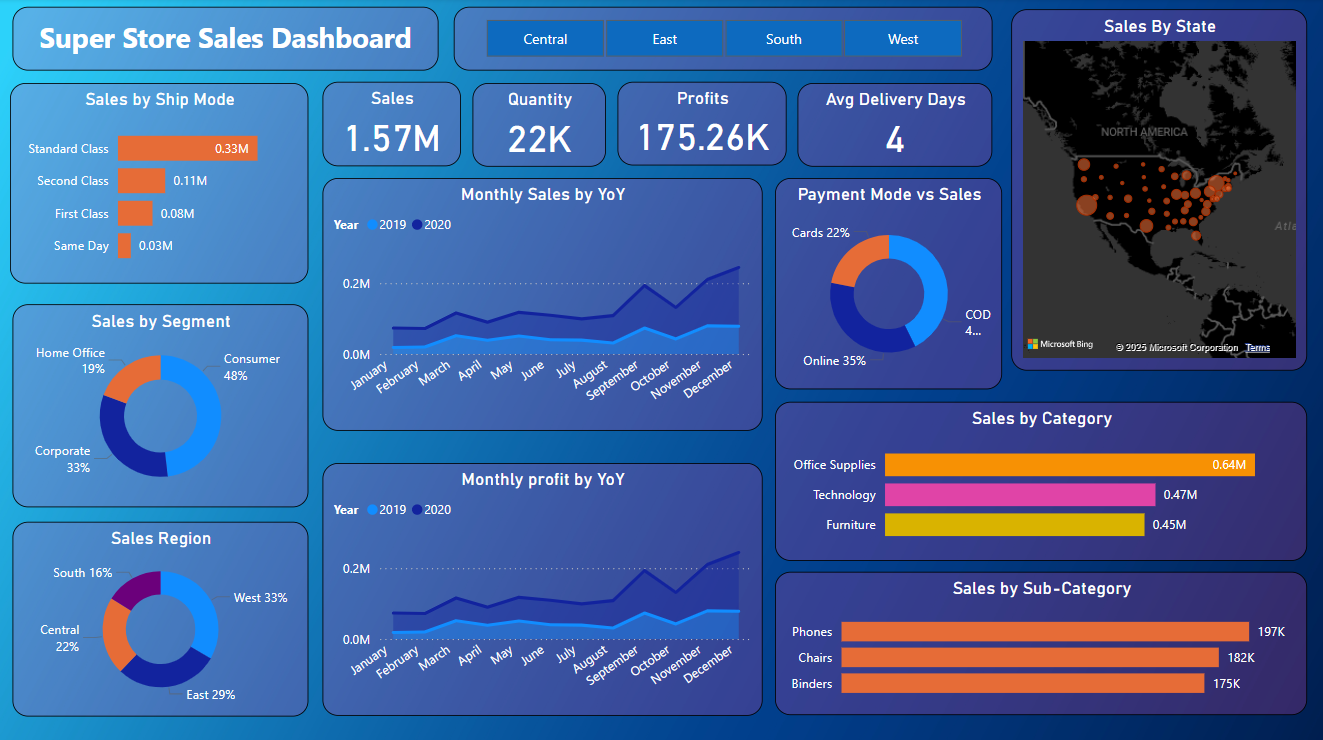

This screenshot's page, from the dashboard's own definition file:
{"tool":"powerbi","page":{"name":"Dashboard","canvas":[1280,720],"ordinal":0},"visuals":[{"type":"clusteredBarChart","title":"Sales by Category","fields":{"Category":["SuperStore_Sales_Dataset.Category"],"Y":["Sum(SuperStore_Sales_Dataset.Sales)"]},"box":[748,389.7,513.9,153.2],"z":0},{"type":"clusteredBarChart","title":"Sales by Sub-Category","fields":{"Category":["SuperStore_Sales_Dataset.Sub-Category"],"Y":["Sum(SuperStore_Sales_Dataset.Sales)"]},"box":[748,553.8,513.9,138.7],"z":1000},{"type":"clusteredBarChart","title":"Sales by Ship Mode","fields":{"Category":["SuperStore_Sales_Dataset.Ship Mode"],"Y":["Sum(SuperStore_Sales_Dataset.Sales)"]},"box":[9.6,82.3,288.2,193.5],"z":2000},{"type":"stackedAreaChart","title":"Monthly Sales by YoY","fields":{"Y":["Sum(SuperStore_Sales_Dataset.Sales)"],"Category":["SuperStore_Sales_Dataset.Order Date.Variation.Date Hierarchy.Month"],"Series":["SuperStore_Sales_Dataset.Order Date.Variation.Date Hierarchy.Year"]},"box":[311.3,173.7,424.7,243.7],"z":3000},{"type":"stackedAreaChart","title":"Monthly profit by YoY","fields":{"Y":["Sum(SuperStore_Sales_Dataset.Sales)"],"Category":["SuperStore_Sales_Dataset.Order Date.Variation.Date Hierarchy.Month"],"Series":["SuperStore_Sales_Dataset.Order Date.Variation.Date Hierarchy.Year"]},"box":[311.3,448.8,424.7,243.7],"z":4000},{"type":"map","title":"Sales By State","fields":{"Category":["SuperStore_Sales_Dataset.State"],"Size":["Sum(SuperStore_Sales_Dataset.Sales)"]},"box":[976,10.9,285.9,348.7],"z":5000},{"type":"donutChart","title":"Sales by Segment","fields":{"Category":["SuperStore_Sales_Dataset.Segment"],"Y":["Sum(SuperStore_Sales_Dataset.Sales)"]},"box":[12.3,295,285.4,196.2],"z":6000},{"type":"donutChart","title":"Payment Mode vs Sales","fields":{"Y":["Sum(SuperStore_Sales_Dataset.Sales)"],"Category":["SuperStore_Sales_Dataset.Payment Mode"]},"box":[748,173.7,219.6,203.9],"z":7000},{"type":"slicer","fields":{"Values":["SuperStore_Sales_Dataset.Region"]},"box":[437.9,8.4,520,61.5],"z":8000},{"type":"textbox","box":[12.1,8.4,411.4,61.5],"z":9000},{"type":"card","title":"Sales","fields":{"Values":["Sum(SuperStore_Sales_Dataset.Sales)"]},"box":[311.3,80.7,133.3,81.3],"z":10000},{"type":"card","title":"Quantity","fields":{"Values":["Sum(SuperStore_Sales_Dataset.Quantity)"]},"box":[455.6,82.3,129,81],"z":11000},{"type":"card","title":"Profits","fields":{"Values":["Sum(SuperStore_Sales_Dataset.Profit)"]},"box":[595.5,81,163.3,81],"z":12000},{"type":"card","title":"Avg Delivery Days","fields":{"Values":["Avg(SuperStore_Sales_Dataset.Avg_Delivery)"]},"box":[769.8,82.3,188,81],"z":13000},{"type":"donutChart","title":"Sales Region","fields":{"Category":["SuperStore_Sales_Dataset.Region"],"Y":["Sum(SuperStore_Sales_Dataset.Sales)"]},"box":[12.3,505,285.4,188],"z":14000}]}

Visuals, with their boxes in screenshot pixels (x1, y1, x2, y2), scaled from the page's 1280x720 canvas onto the 1323x740 screenshot:
"Sales by Category" clusteredBarChart: <bbox>773, 401, 1304, 558</bbox>
"Sales by Sub-Category" clusteredBarChart: <bbox>773, 569, 1304, 712</bbox>
"Sales by Ship Mode" clusteredBarChart: <bbox>10, 85, 308, 283</bbox>
"Monthly Sales by YoY" stackedAreaChart: <bbox>322, 179, 761, 429</bbox>
"Monthly profit by YoY" stackedAreaChart: <bbox>322, 461, 761, 712</bbox>
"Sales By State" map: <bbox>1009, 11, 1304, 370</bbox>
"Sales by Segment" donutChart: <bbox>13, 303, 308, 505</bbox>
"Payment Mode vs Sales" donutChart: <bbox>773, 179, 1000, 388</bbox>
slicer - SuperStore_Sales_Dataset.Region: <bbox>453, 9, 990, 72</bbox>
textbox: <bbox>13, 9, 438, 72</bbox>
"Sales" card: <bbox>322, 83, 460, 166</bbox>
"Quantity" card: <bbox>471, 85, 604, 168</bbox>
"Profits" card: <bbox>616, 83, 784, 166</bbox>
"Avg Delivery Days" card: <bbox>796, 85, 990, 168</bbox>
"Sales Region" donutChart: <bbox>13, 519, 308, 712</bbox>
